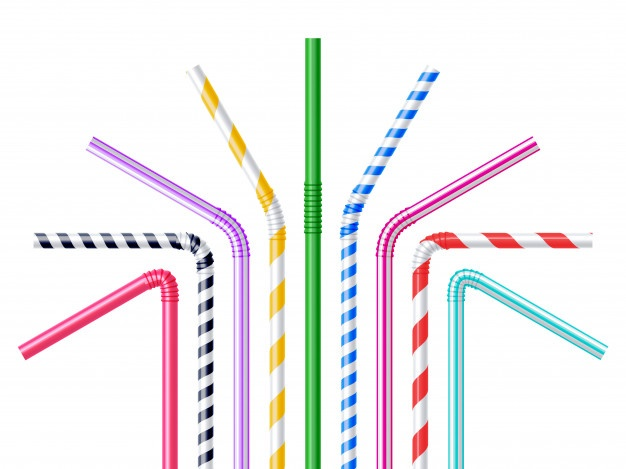Drinking Straw: (16, 263, 183, 469), (444, 265, 611, 469), (301, 35, 327, 469)
